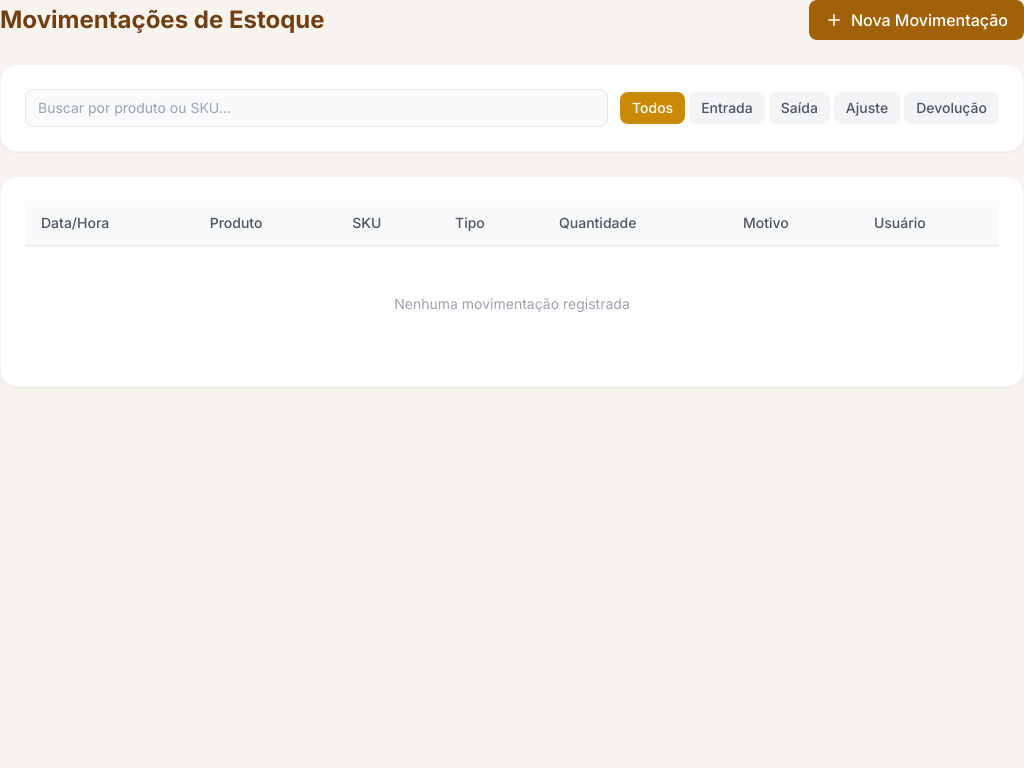
Test: StockPage › modal Nova Movimentação › botão Registrar fica desabilitado sem produto selecionado
Click the button "Nova Movimentação" at x=916, y=20, box [809,0,1023,40]
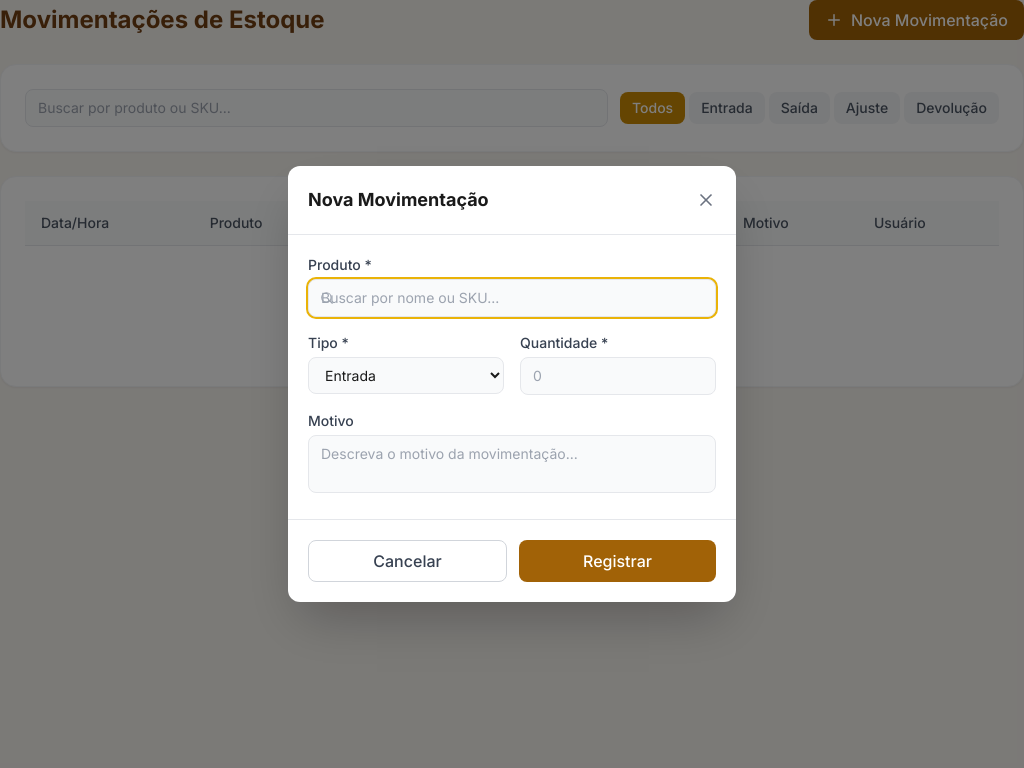
Result: the button "Registrar" is disabled at [519,540,716,582]
